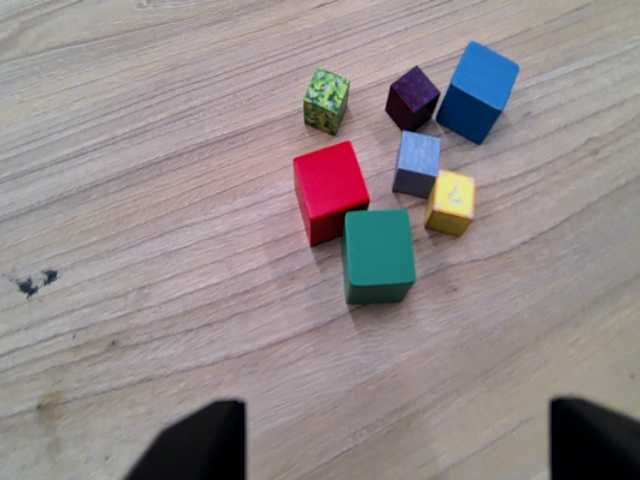brick: (388, 66, 437, 129)
grass: (305, 70, 347, 127)
lucky: (436, 168, 474, 237)
stone: (397, 131, 434, 198)
